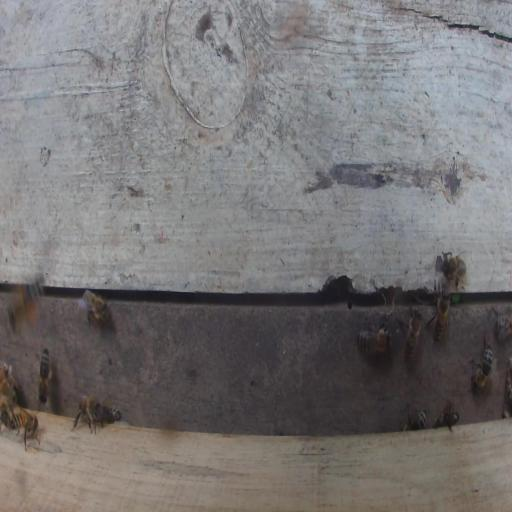nonpollenbee: (356, 319, 392, 359), (468, 335, 492, 391), (427, 286, 451, 341), (10, 406, 40, 450), (72, 394, 102, 435), (437, 251, 467, 289), (402, 308, 422, 362), (83, 288, 110, 327), (401, 404, 428, 431), (432, 407, 460, 432), (1, 363, 18, 404), (493, 305, 512, 341), (101, 404, 122, 423)
pollenbee: (6, 272, 45, 329), (35, 344, 53, 408)
